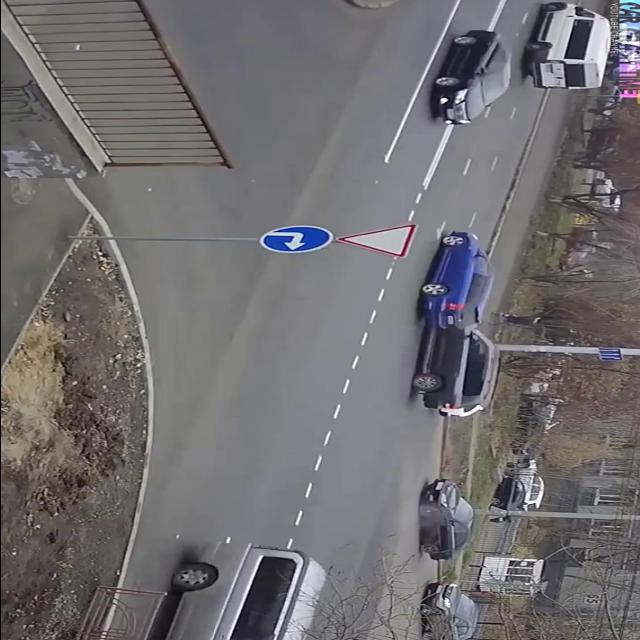accident: (406, 227, 505, 425)
non_accident: (417, 0, 615, 134)
